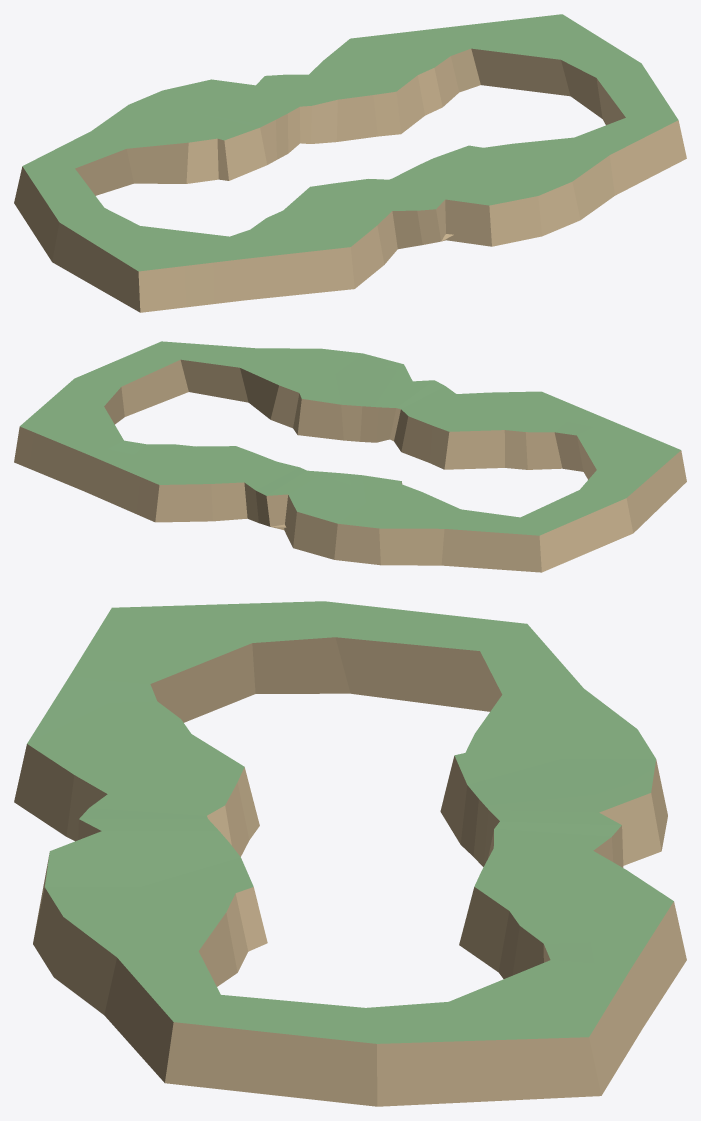
File: LandEnclave.001.fbx
3 renders of one model, top to bottom at view 1: azimuth 30°, elevation 25°; view 2: azimuth 150°, elevation 25°; view 3: azimuth 270°, elevation 25°, orthographic. The views are drawn at different scales.
Parts seen in each view (by area): view 1: LandEnclave.001; view 2: LandEnclave.001; view 3: LandEnclave.001.
Part boxes in pixels (left/top/right/bottom): LandEnclave.001: left=14, top=14, right=686, bottom=312; LandEnclave.001: left=14, top=341, right=686, bottom=572; LandEnclave.001: left=14, top=601, right=686, bottom=1106.
Bounding box in the file's own units: 6623 × 404 × 4152.
